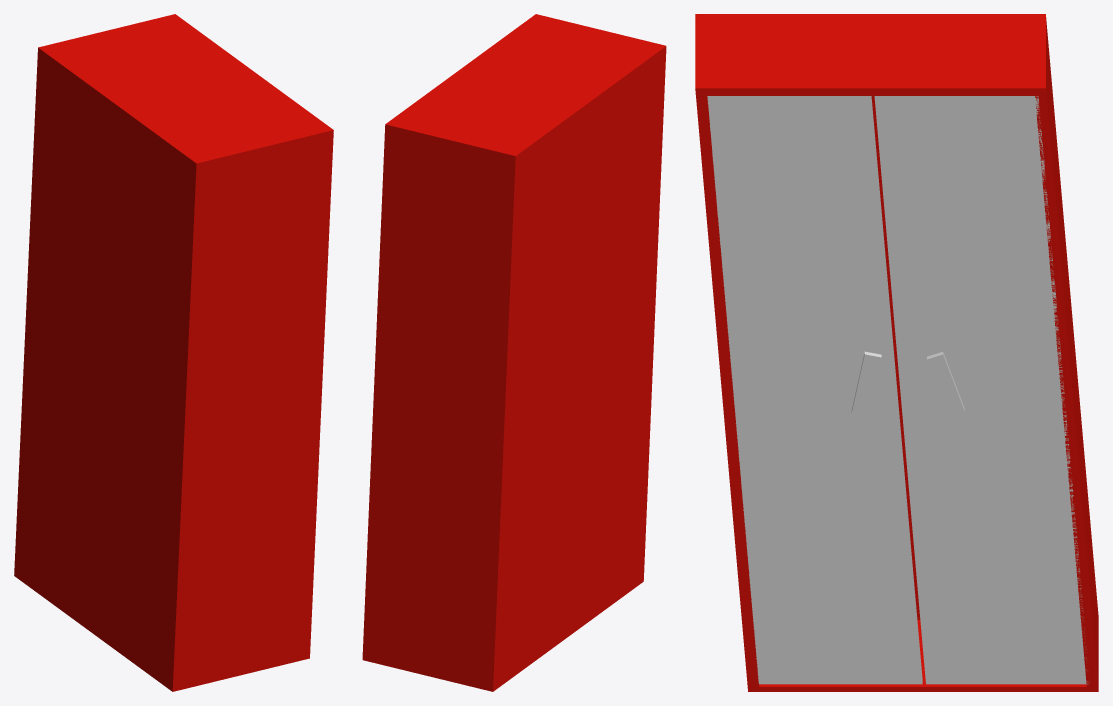
File: closet 1.fbx
3 renders of one model, left to right at view 1: azimuth 30°, elevation 25°; view 2: azimuth 150°, elevation 25°; view 3: azimuth 270°, elevation 25°, orthographic. The views are drawn at different scales.
Parts seen in each view (by area): view 1: Cube; view 2: Cube; view 3: Cube.002, Cube.001, Cube, Cube.004, Cube.003.
Boxes of the visible parts, box(x1,y1,x2,y2) form: Cube: box(14, 14, 333, 691); Cube: box(362, 14, 666, 691); Cube.002: box(707, 96, 922, 684); Cube.001: box(874, 96, 1089, 684); Cube: box(695, 14, 1098, 691); Cube.004: box(927, 352, 964, 416); Cube.003: box(851, 351, 881, 416).
Bounding box in the file's own units: 208 × 760 × 460.
